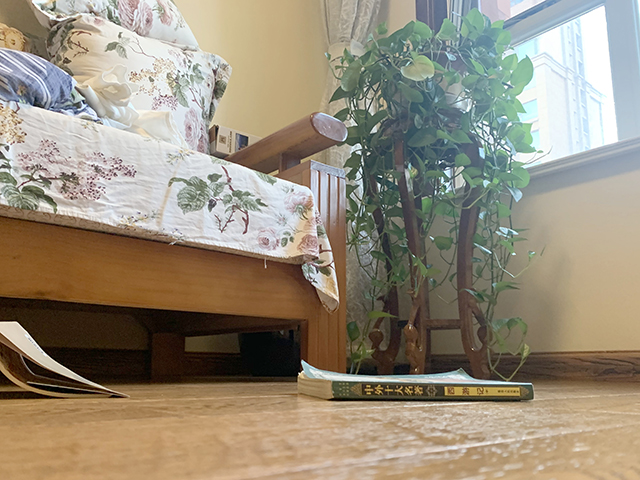book: (1, 319, 132, 400), (296, 360, 536, 401)
sofa: (1, 1, 347, 380)
